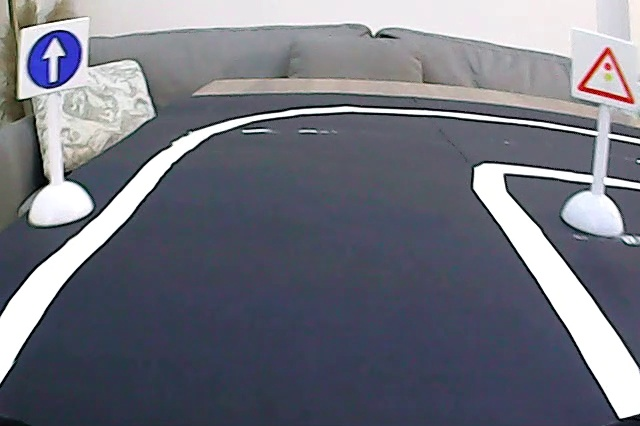red light: (575, 35, 635, 103)
